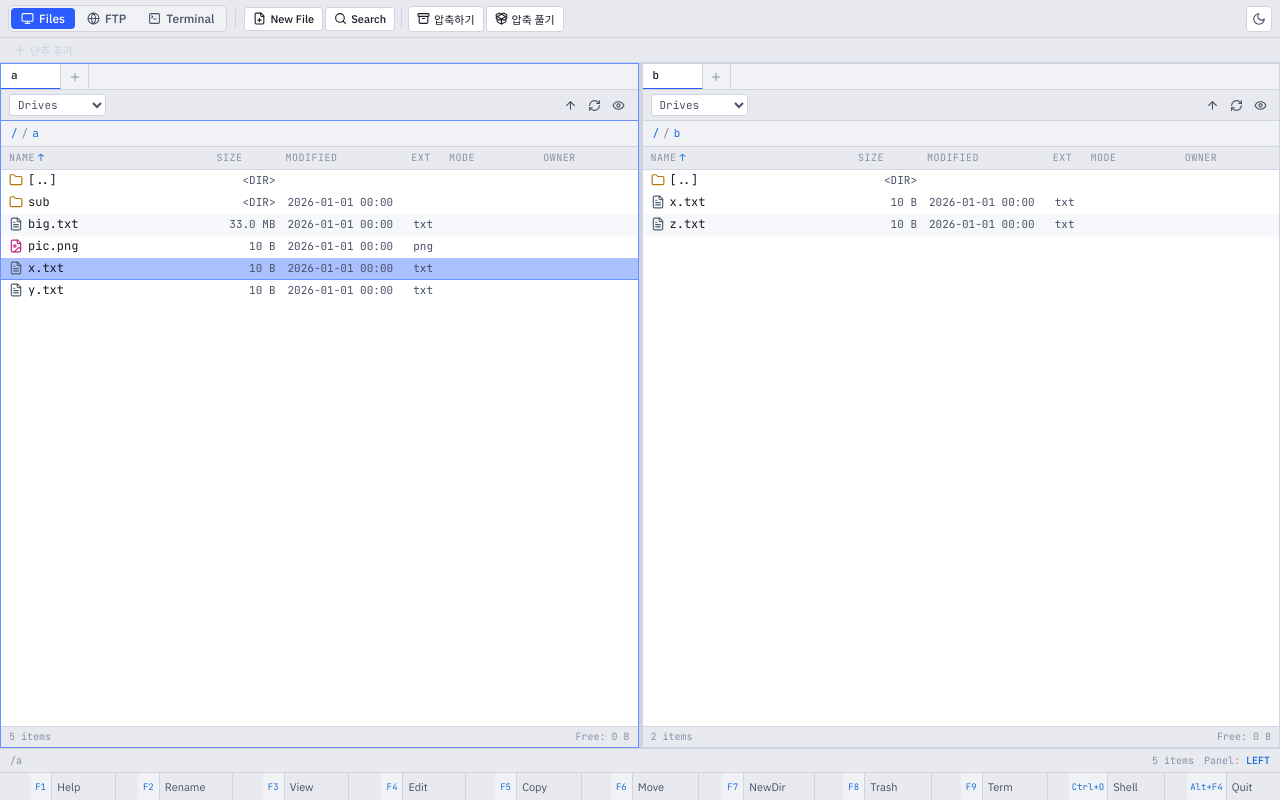
Test: App 커버리지 — 휴지통/영구 삭제 › AP-04: 휴지통 이동 실패 시 대화상자 유지 + 오류 메시지, 취소로 닫힘
This screenshot has width=1280, height=800.
Expected: the text "y.txt" is shown, [28,282,64,299]
Press Delete
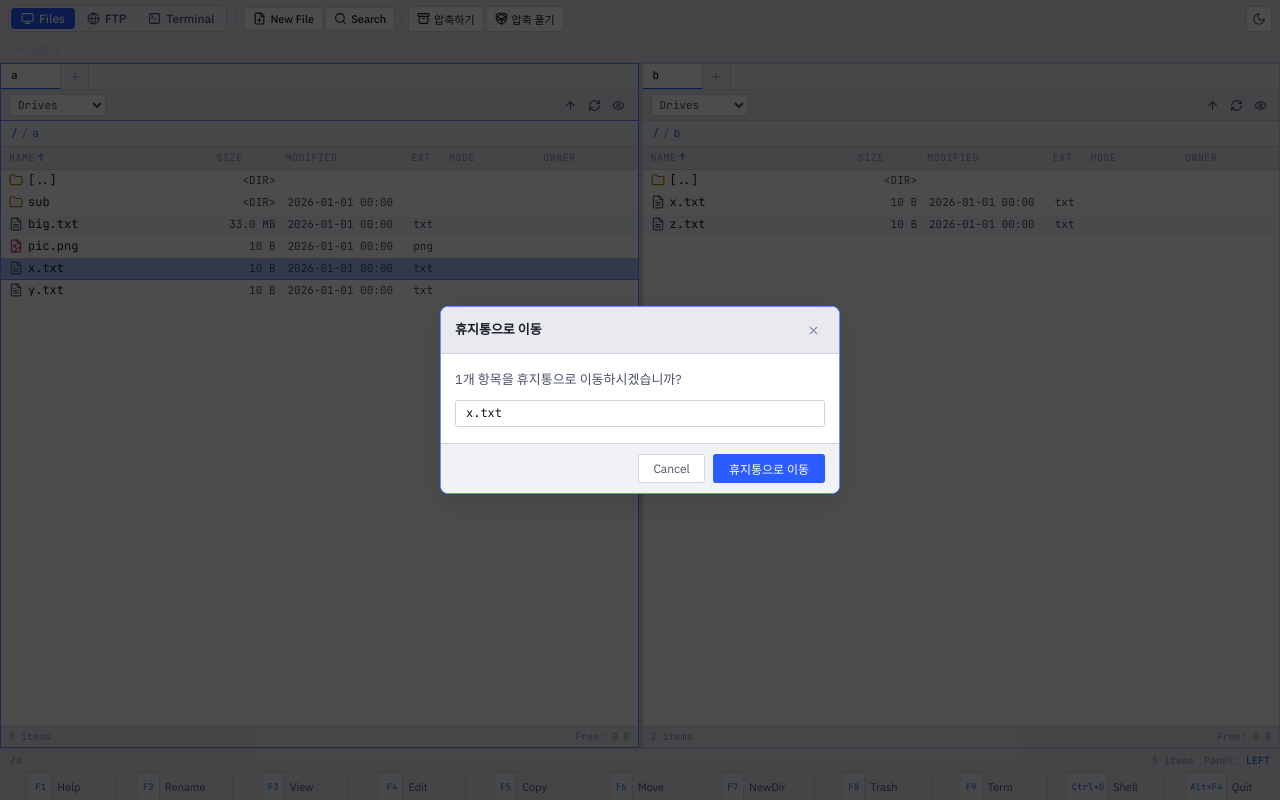
Click the button "휴지통으로 이동" at (769, 468), box [713,454,825,483]
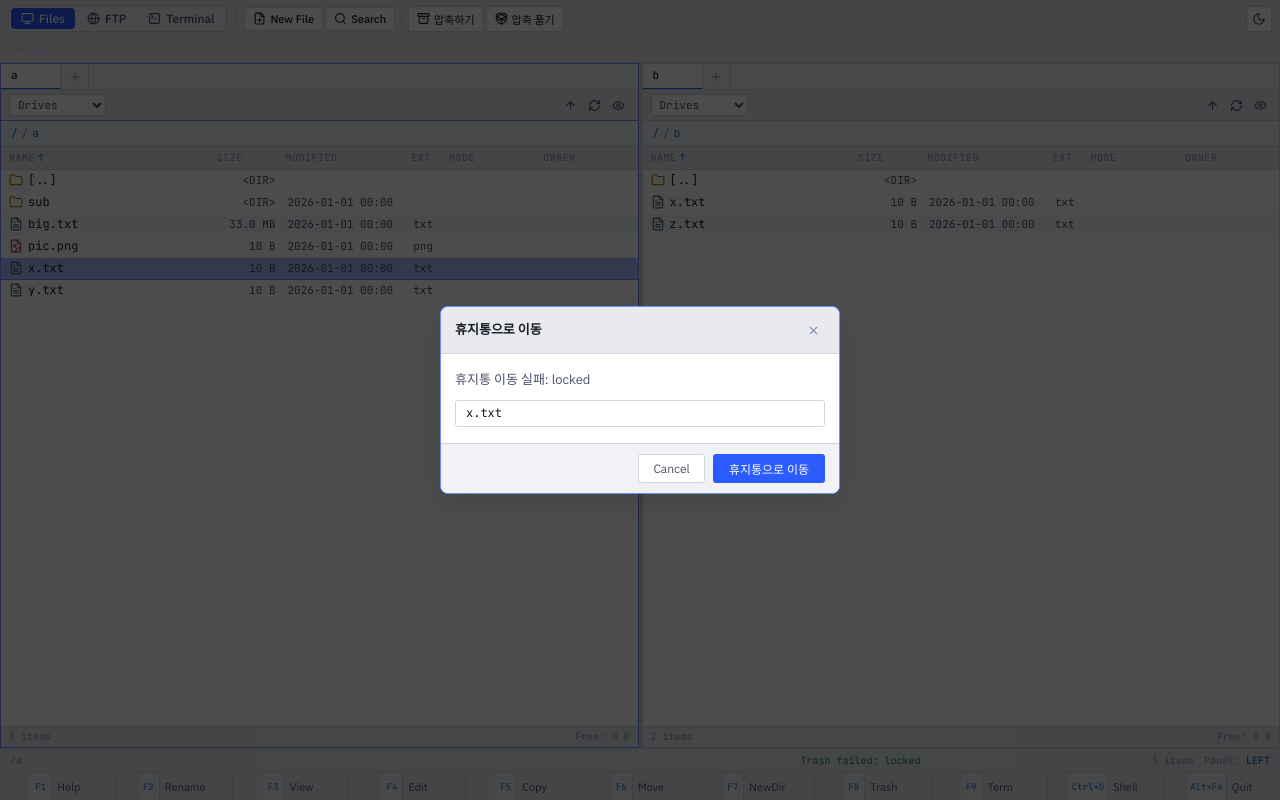
Now the text "휴지통 이동 실패: locked" is shown, box [455,371,590,388]
Click the button "Cancel" at (672, 468), box [638,454,705,483]
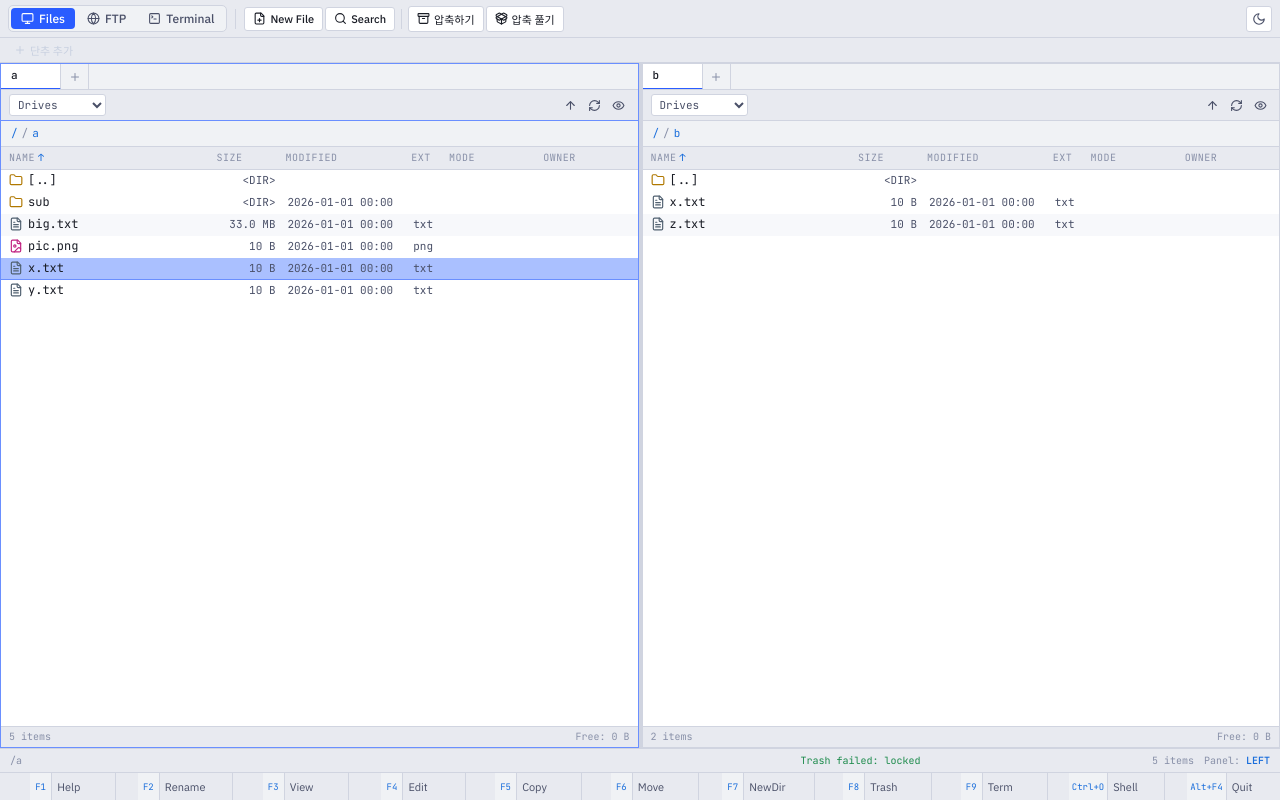
Now the text "휴지통 이동 실패" is gone
